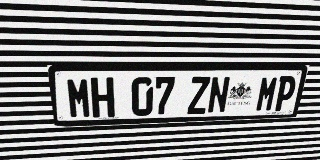0: (132, 77, 153, 116)
7: (153, 77, 175, 116)
H: (90, 77, 115, 118)
M: (66, 78, 92, 119), (255, 76, 280, 112)
N: (207, 76, 231, 114)
P: (273, 76, 298, 111)
Z: (187, 77, 210, 114)
